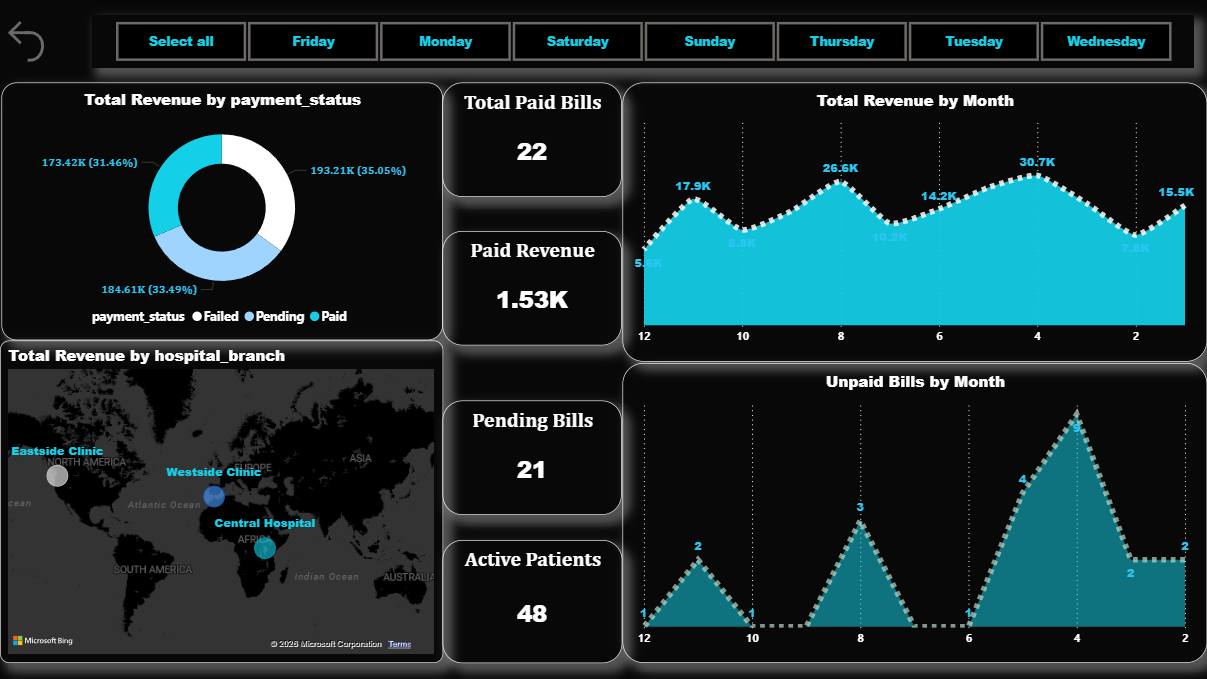

What the dashboard file says about the page in this screenshot:
{"tool":"powerbi","page":{"name":"Revenue & Billing Analysis","canvas":[1280,720],"ordinal":2},"visuals":[{"type":"group","id":"g1","title":"Group 1","box":[469.9,87.1,190.4,120.5],"z":0,"group":"g5"},{"type":"kpi","title":"Total Paid Bills","fields":{"Indicator":["DAX Measures.Paid Bills"],"TrendLine":["Calendar.Year"]},"box":[469.9,87.1,189.9,121.2],"z":0,"group":"g1"},{"type":"lineChart","fields":{"Category":["Calendar.Month"],"Y":["DAX Measures.Total Revenue"]},"box":[660.3,87.1,619.7,295.7],"z":0},{"type":"kpi","title":"Paid Revenue","fields":{"Indicator":["DAX Measures.Paid Revenue"],"TrendLine":["Calendar.Month"]},"box":[469.9,244.4,189.9,121.2],"z":0,"group":"g2"},{"type":"kpi","title":"Pending Bills","fields":{"Indicator":["DAX Measures.Pending Bills"],"TrendLine":["Calendar.Year"]},"box":[469.9,425.1,189.9,121.2],"z":1,"group":"g3"},{"type":"kpi","title":"Active Patients","fields":{"TrendLine":["Calendar.Year"],"Indicator":["DAX Measures.Active Patients"]},"box":[469.9,572.3,190.7,130.5],"z":2,"group":"g4"},{"type":"group","id":"g2","title":"Group 2","box":[469.9,244.4,190.4,120.5],"z":1000,"group":"g5"},{"type":"lineChart","fields":{"Category":["Calendar.Month"],"Y":["DAX Measures.Unpaid Bills"]},"box":[660.3,384.8,619.7,318],"z":1000},{"type":"donutChart","fields":{"Category":["Billing.payment_status"],"Y":["DAX Measures.Total Revenue"]},"box":[2,87.1,467.8,273.4],"z":2000},{"type":"group","id":"g3","title":"Group 3","box":[469.9,425.1,190.4,120.5],"z":2000,"group":"g5"},{"type":"slicer","fields":{"Values":["Calendar.Day Name"]},"box":[97,15.9,1169.1,55.7],"z":3000},{"type":"group","id":"g4","title":"Group 4","box":[469.9,572.3,190.4,130.5],"z":3000,"group":"g5"},{"type":"map","fields":{"Category":["Doctors.hospital_branch"],"Size":["DAX Measures.Total Revenue"]},"box":[0,360.5,469.9,342.3],"z":4000},{"type":"group","id":"g5","title":"Group 5","box":[469.9,87.1,190.4,615.7],"z":5000},{"type":"actionButton","box":[0,15.9,85.9,55.7],"z":6000}]}

Visuals, with their boxes in screenshot pixels (x1, y1, x2, y2), scaled from the page's 1280x720 canvas onto the 1207x679 screenshot:
"Group 1" group: bbox(443, 82, 623, 196)
"Total Paid Bills" kpi: bbox(443, 82, 622, 196)
lineChart - Calendar.Month x DAX Measures.Total Revenue: bbox(623, 82, 1206, 361)
"Paid Revenue" kpi: bbox(443, 230, 622, 345)
"Pending Bills" kpi: bbox(443, 401, 622, 515)
"Active Patients" kpi: bbox(443, 540, 623, 663)
"Group 2" group: bbox(443, 230, 623, 344)
lineChart - Calendar.Month x DAX Measures.Unpaid Bills: bbox(623, 363, 1206, 663)
donutChart - Billing.payment_status x DAX Measures.Total Revenue: bbox(2, 82, 443, 340)
"Group 3" group: bbox(443, 401, 623, 515)
slicer - Calendar.Day Name: bbox(91, 15, 1194, 68)
"Group 4" group: bbox(443, 540, 623, 663)
map - Doctors.hospital_branch x DAX Measures.Total Revenue: bbox(0, 340, 443, 663)
"Group 5" group: bbox(443, 82, 623, 663)
actionButton: bbox(0, 15, 81, 68)
